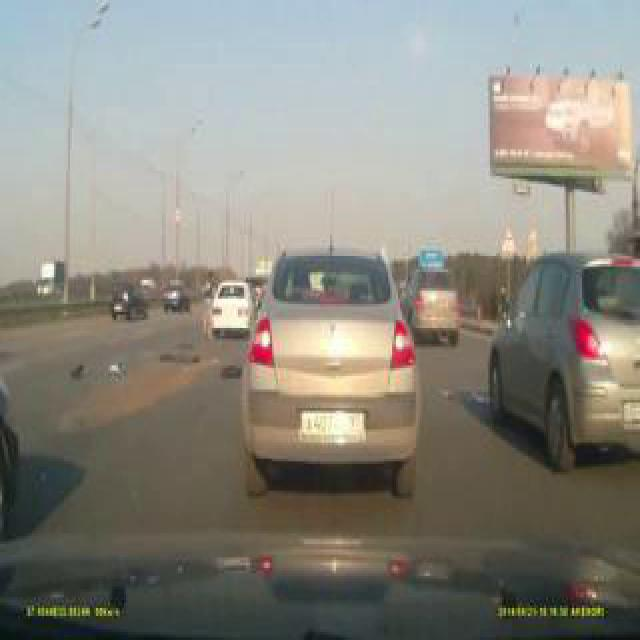explosion: (203, 0, 562, 629)
